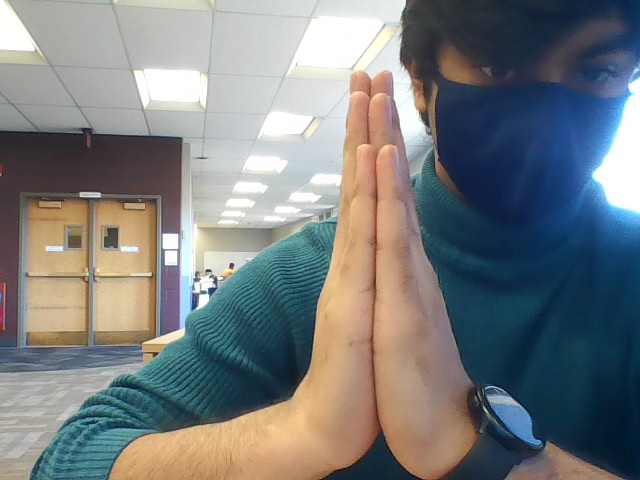start: (318, 55, 458, 480)
